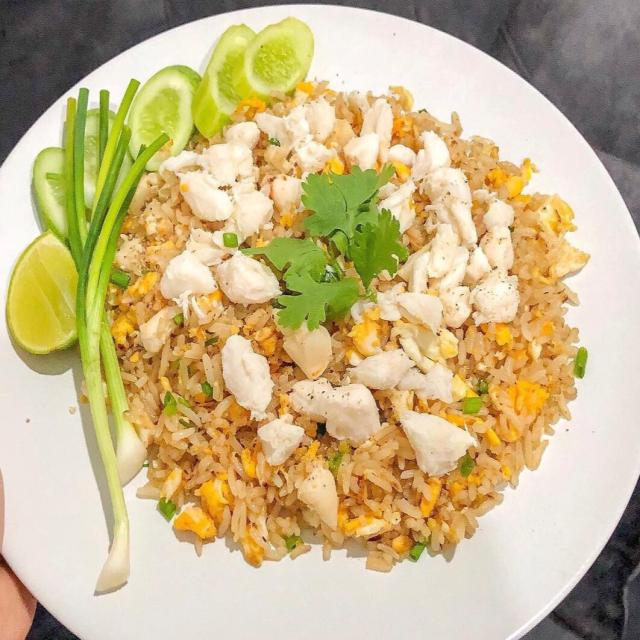carb: (149, 362, 303, 560), (312, 438, 526, 561), (517, 200, 591, 457)
fried rice: (128, 115, 606, 587)
meat: (189, 139, 515, 342)
vegetable: (269, 154, 409, 330), (458, 376, 492, 430)
